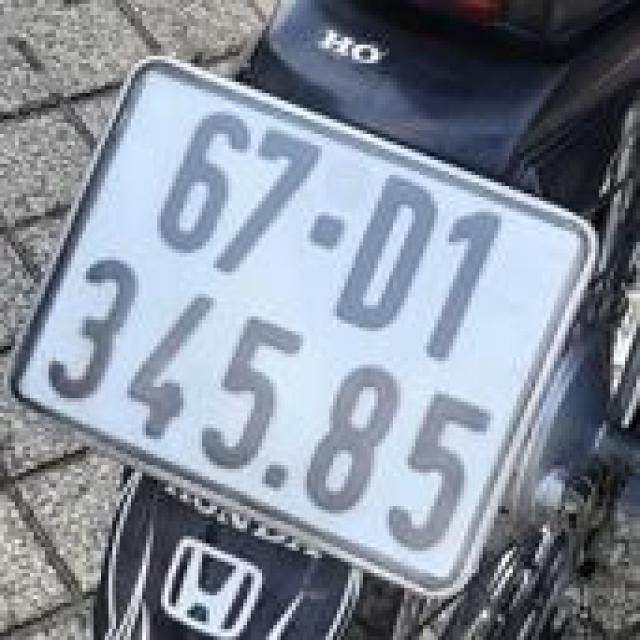1: (430, 203, 506, 366)
3: (43, 246, 137, 417)
4: (129, 272, 215, 450)
5: (202, 305, 303, 488), (399, 378, 492, 556)
6: (146, 99, 251, 258)
7: (232, 121, 333, 288)
8: (296, 337, 404, 538)
D: (322, 173, 434, 329)
